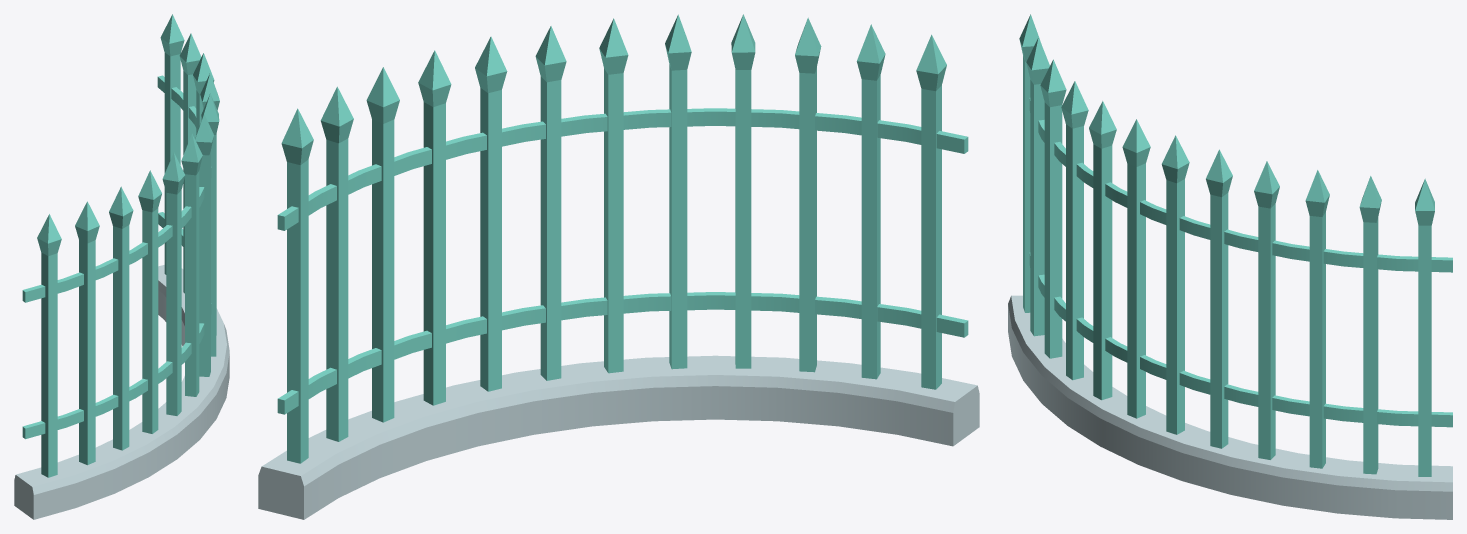
Rendered from ironFenceBorderCurve.glb.
3 views of the same model, side by side, from view 1: azimuth 30°, elevation 25°; view 2: azimuth 150°, elevation 25°; view 3: azimuth 270°, elevation 25° (orthographic). The views are drawn at different scales.
Visible parts, largest first — view 1: ironFenceBorderCurve; view 2: ironFenceBorderCurve; view 3: ironFenceBorderCurve.
Part boxes in pixels (bbox=[...]): ironFenceBorderCurve: bbox=[14, 14, 229, 519]; ironFenceBorderCurve: bbox=[258, 14, 979, 519]; ironFenceBorderCurve: bbox=[1008, 14, 1452, 519].
Size of the model in its own units: 1 by 0.8239 by 1.
